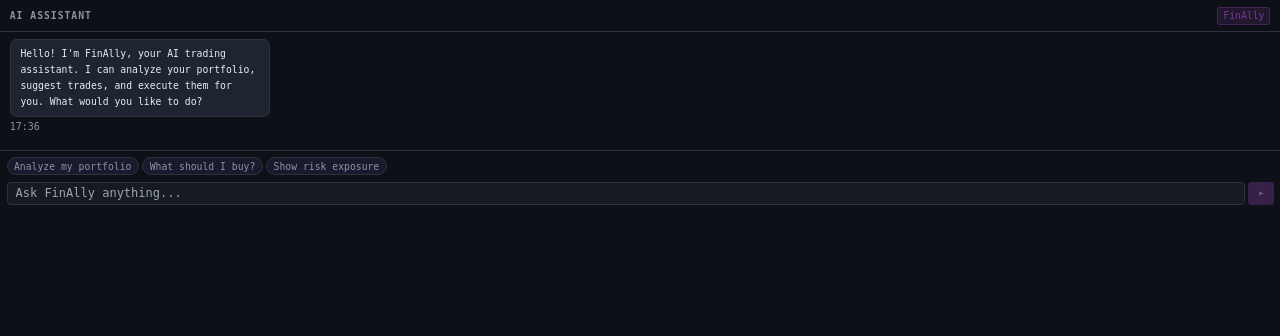
Scenario: ChatPanel › displays assistant response after sending a message
Type "What should I buy?" into the field with placeholder "Ask FinAlly anything..." at {"x": 626, "y": 193}, box x1=6 y1=182 x2=1245 y2=205
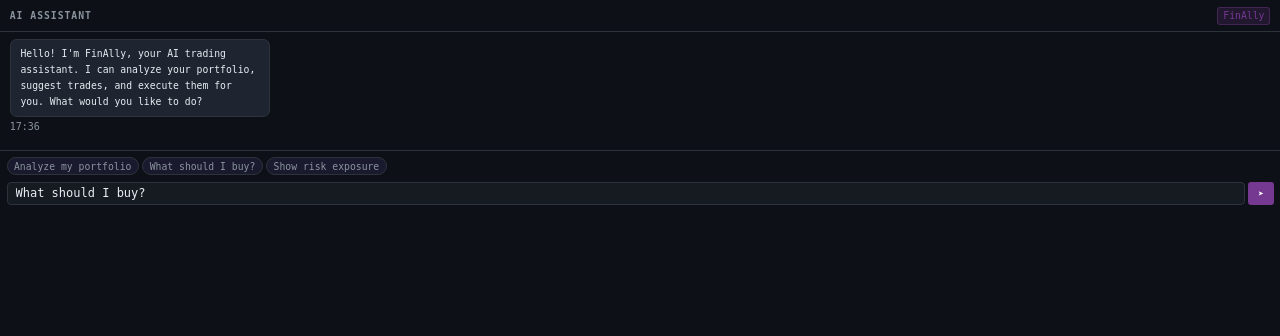
Press Enter in the field with placeholder "Ask FinAlly anything...", box x1=6 y1=182 x2=1245 y2=205
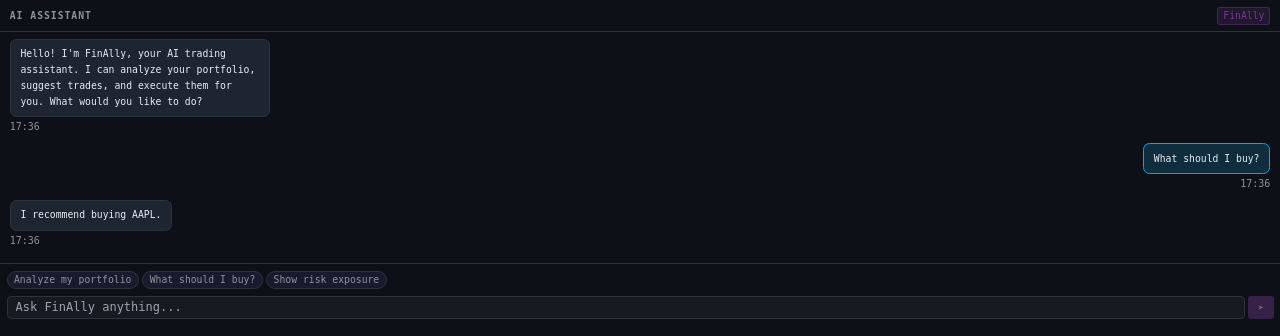
Expected: the text "I recommend buying AAPL." is shown, x1=10 y1=200 x2=172 y2=231
